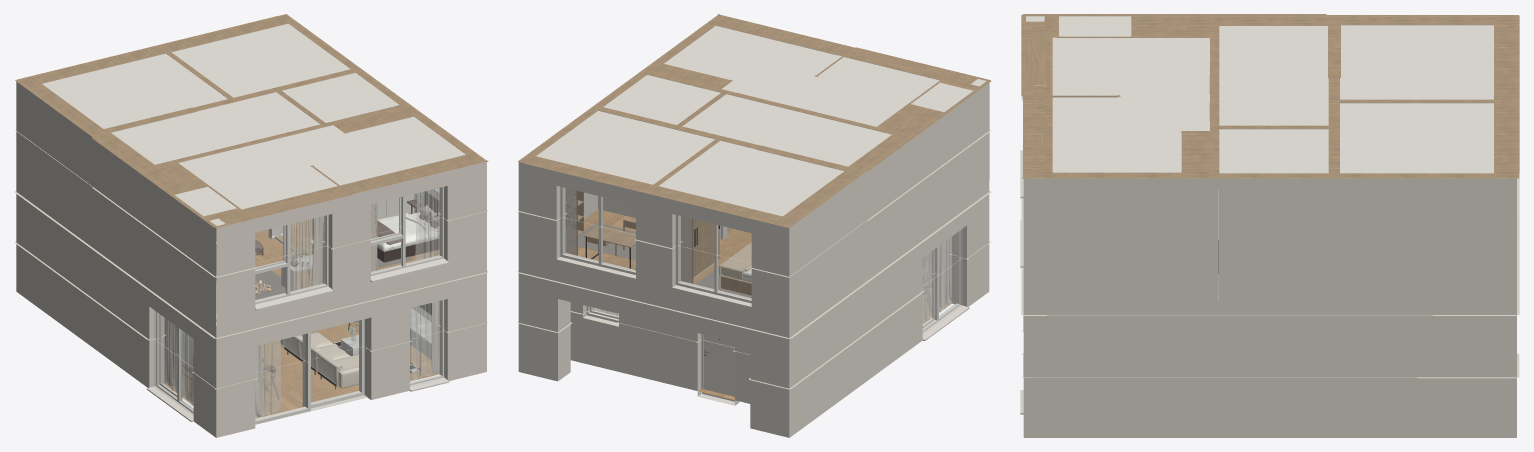
Rendered from wnetrze-SZEREG-v13-m.glb.
3 views of the same model, side by side, from view 1: azimuth 30°, elevation 25°; view 2: azimuth 150°, elevation 25°; view 3: azimuth 270°, elevation 25° (orthographic). The views are drawn at different scales.
Visible parts, largest first — view 1: KOND_1__SUFIT, KOND_0__SCIANY, KOND_1__SCIANY, KOND_1__WIERZCHY, KOND_0__OKNA, KOND_1__OKNA, KOND_0__WYPOSAZENIE, KOND_1__WYPOSAZENIE, KOND_0__PODLOGA, KOND_1__PODLOGA, KOND_0__WIERZCHY, KOND_0__PRZEKROJ (+1 smaller); view 2: KOND_0__SCIANY, KOND_1__SUFIT, KOND_1__SCIANY, KOND_1__WIERZCHY, KOND_1__OKNA, KOND_1__WYPOSAZENIE, KOND_0__OKNA, KOND_1__PODLOGA, KOND_0__WYPOSAZENIE, KOND_0__WIERZCHY, KOND_0__PRZEKROJ, KOND_1__PRZEKROJ; view 3: KOND_0__SCIANY, KOND_1__SCIANY, KOND_1__SUFIT, KOND_1__WIERZCHY, KOND_0__WIERZCHY, KOND_0__PRZEKROJ.
Boxes of the visible parts, x1,y1,x2,y2 form: KOND_1__SUFIT: [42, 24, 465, 225]; KOND_0__SCIANY: [16, 180, 486, 437]; KOND_1__SCIANY: [16, 23, 486, 325]; KOND_1__WIERZCHY: [15, 14, 488, 227]; KOND_0__OKNA: [146, 300, 449, 424]; KOND_1__OKNA: [255, 187, 449, 310]; KOND_0__WYPOSAZENIE: [164, 301, 439, 417]; KOND_1__WYPOSAZENIE: [216, 188, 439, 315]; KOND_0__PODLOGA: [164, 322, 439, 418]; KOND_1__PODLOGA: [255, 219, 439, 289]; KOND_0__WIERZCHY: [15, 191, 488, 338]; KOND_0__PRZEKROJ: [15, 241, 488, 389]; KOND_0__SCIANY: [518, 180, 989, 437]; KOND_1__SUFIT: [536, 26, 986, 216]; KOND_1__SCIANY: [518, 25, 989, 325]; KOND_1__WIERZCHY: [518, 14, 991, 227]; KOND_1__OKNA: [560, 186, 751, 303]; KOND_1__WYPOSAZENIE: [565, 188, 751, 297]; KOND_0__OKNA: [922, 229, 969, 340]; KOND_1__PODLOGA: [578, 209, 751, 284]; KOND_0__WYPOSAZENIE: [589, 236, 953, 355]; KOND_0__WIERZCHY: [517, 191, 991, 338]; KOND_0__PRZEKROJ: [517, 241, 990, 389]; KOND_1__PRZEKROJ: [517, 130, 990, 277]; KOND_0__SCIANY: [1023, 300, 1516, 437]; KOND_1__SCIANY: [1023, 25, 1516, 300]; KOND_1__SUFIT: [1026, 16, 1493, 173]; KOND_1__WIERZCHY: [1021, 14, 1519, 178]; KOND_0__WIERZCHY: [1021, 173, 1519, 315]; KOND_0__PRZEKROJ: [1021, 315, 1519, 378].
Size of the model in its own units: 7.61 by 5.73 by 9.72.
144 materials, 60 textured.
